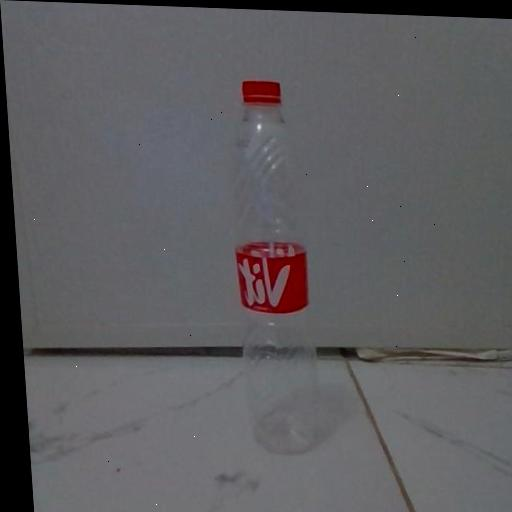bottle: (204, 45, 348, 476)
